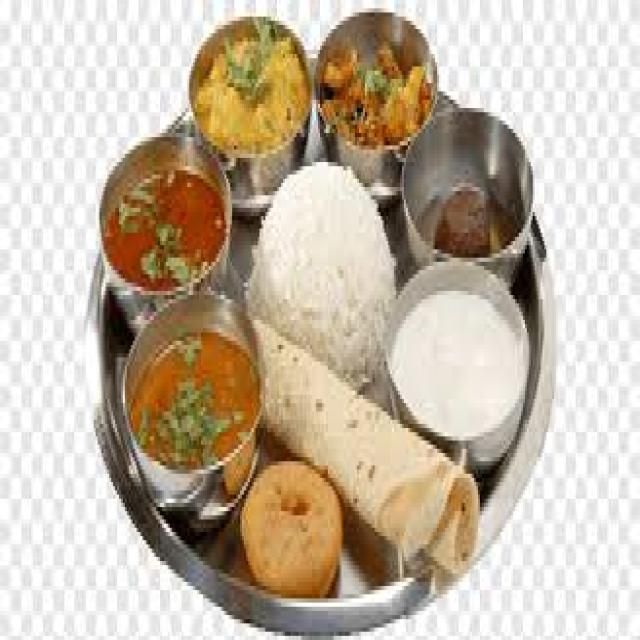curd: (381, 247, 544, 473)
dal: (187, 12, 313, 177)
rice: (254, 160, 396, 417)
sambar-rasam: (101, 122, 234, 306)
veg-fry: (117, 294, 266, 513), (189, 2, 310, 186), (308, 8, 439, 174)
